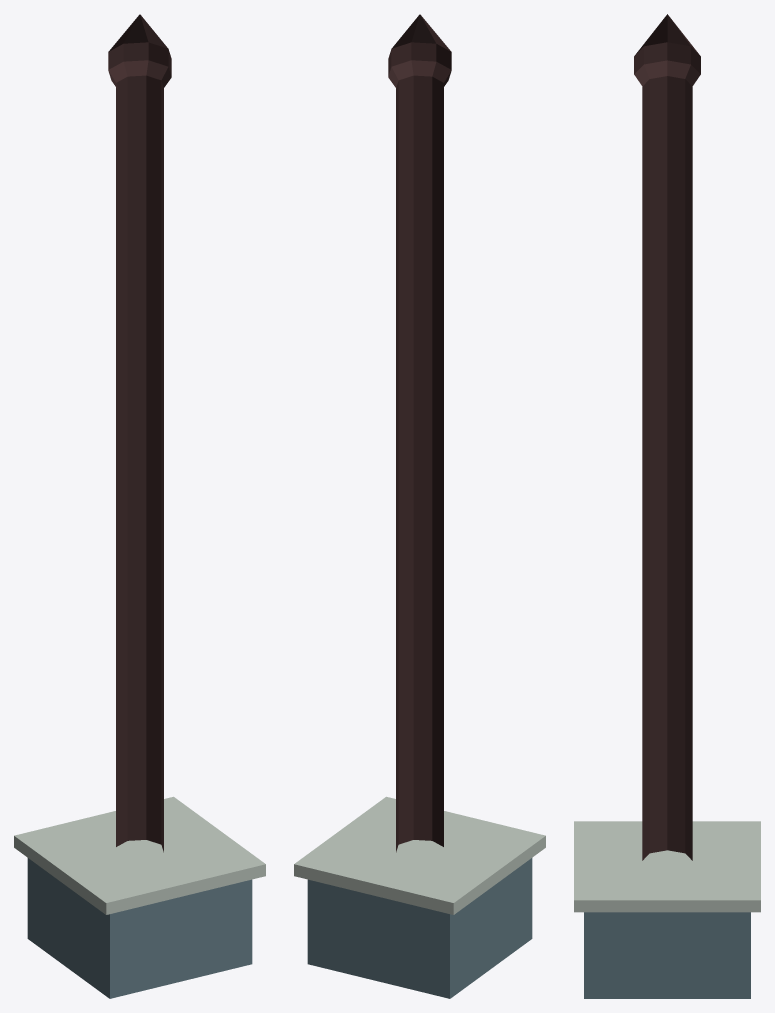
Rendered from direction_sign_post.glb.
The picture shows the model from 3 angles, left to right: view 1: azimuth 30°, elevation 25°; view 2: azimuth 150°, elevation 25°; view 3: azimuth 270°, elevation 25°; orthographic projection.
Visible parts, largest first — view 1: DirectionSignPost / Timber, DirectionSignPost / Stone, DirectionSignPost / Coping; view 2: DirectionSignPost / Timber, DirectionSignPost / Stone, DirectionSignPost / Coping; view 3: DirectionSignPost / Timber, DirectionSignPost / Coping, DirectionSignPost / Stone.
Part boxes in pixels (x1,y1,x2,y2): DirectionSignPost / Timber: (108, 14, 171, 852); DirectionSignPost / Stone: (27, 858, 252, 998); DirectionSignPost / Coping: (14, 796, 265, 914); DirectionSignPost / Timber: (388, 14, 451, 852); DirectionSignPost / Stone: (307, 858, 532, 998); DirectionSignPost / Coping: (294, 796, 545, 914); DirectionSignPost / Timber: (634, 14, 700, 860); DirectionSignPost / Coping: (574, 821, 760, 912); DirectionSignPost / Stone: (584, 912, 750, 998).
Bounding box in the file's own units: 0.56 × 3.14 × 0.56.
